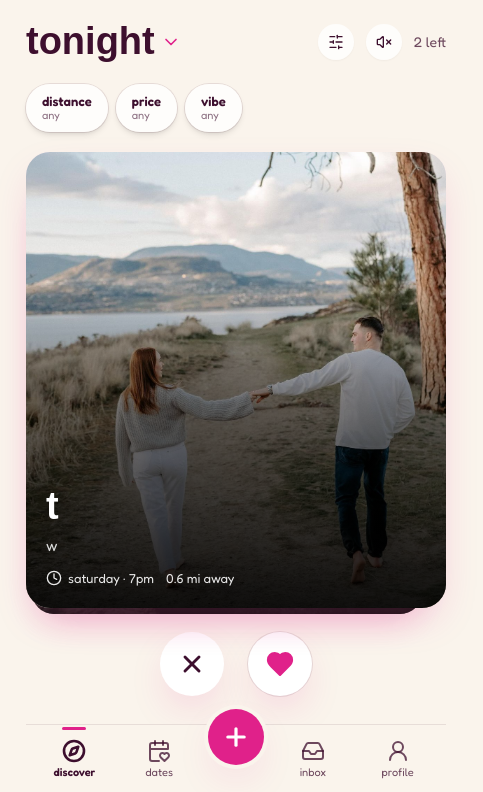
Scenario: SwipeDeck — pick a day › cycling back to tonight clears the day filter (heading-only scopes unfiltered)
The width and height of the screenshot is (483, 792).
What coordinates should you click on to do the following:
click the button with aria-label "showing tonight"
I would click on:
 (103, 42)
Its box is [26,20,181,64].
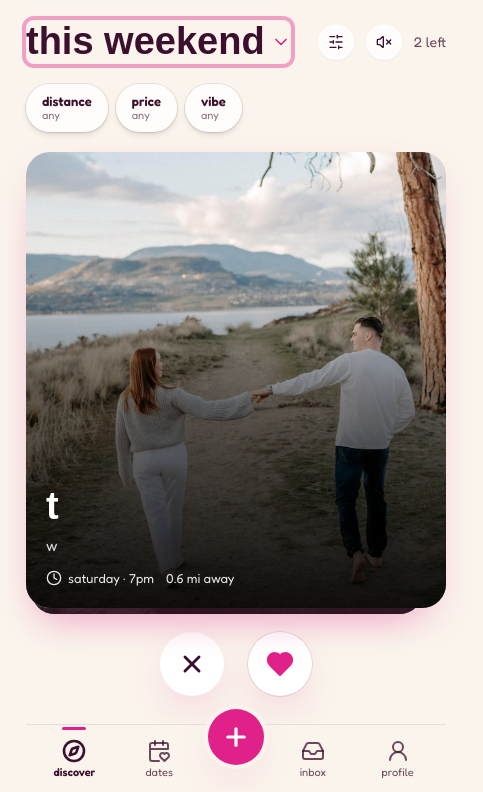
What coordinates should you click on to do the following:
click the button with aria-label "showing this weekend"
I would click on:
 (158, 42)
Its box is [26,20,291,64].
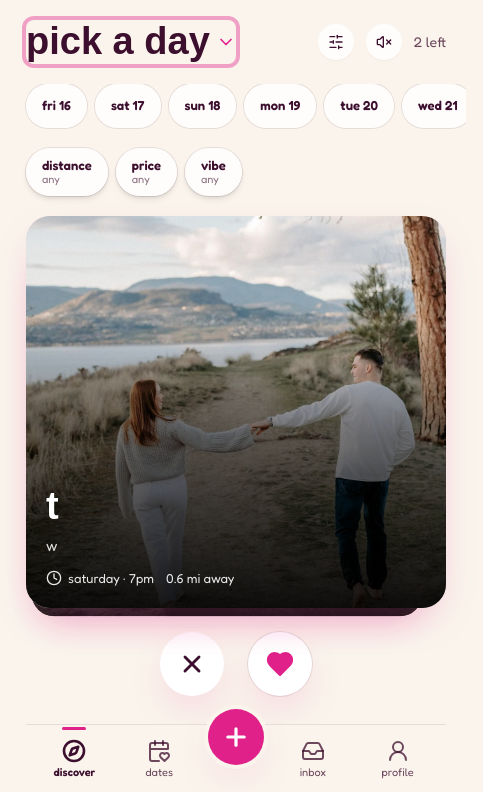
What coordinates should you click on to do the following:
click the button "sat 17"
I would click on:
 (128, 106)
Its box is [95,84,161,128].
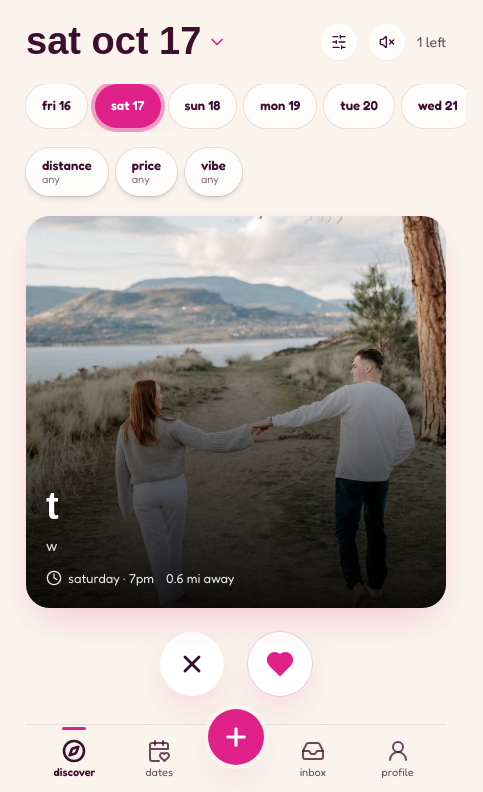
Result: the text "1 left" is shown at [417,31,446,52]
What coordinates should you click on to do the following:
click the button "sat oct 17"
I would click on:
 (127, 42)
Its box is [26,20,227,64].
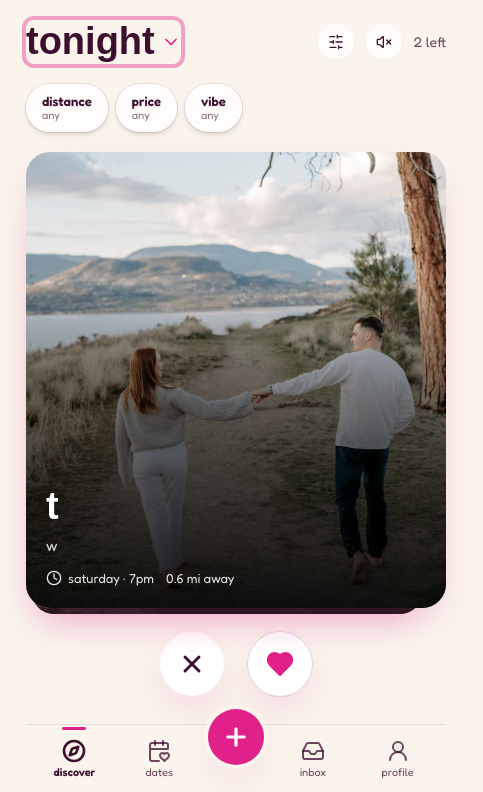
Expected: the button "pick a day" is not shown
Result: the text "2 left" is shown at [414,31,446,52]
